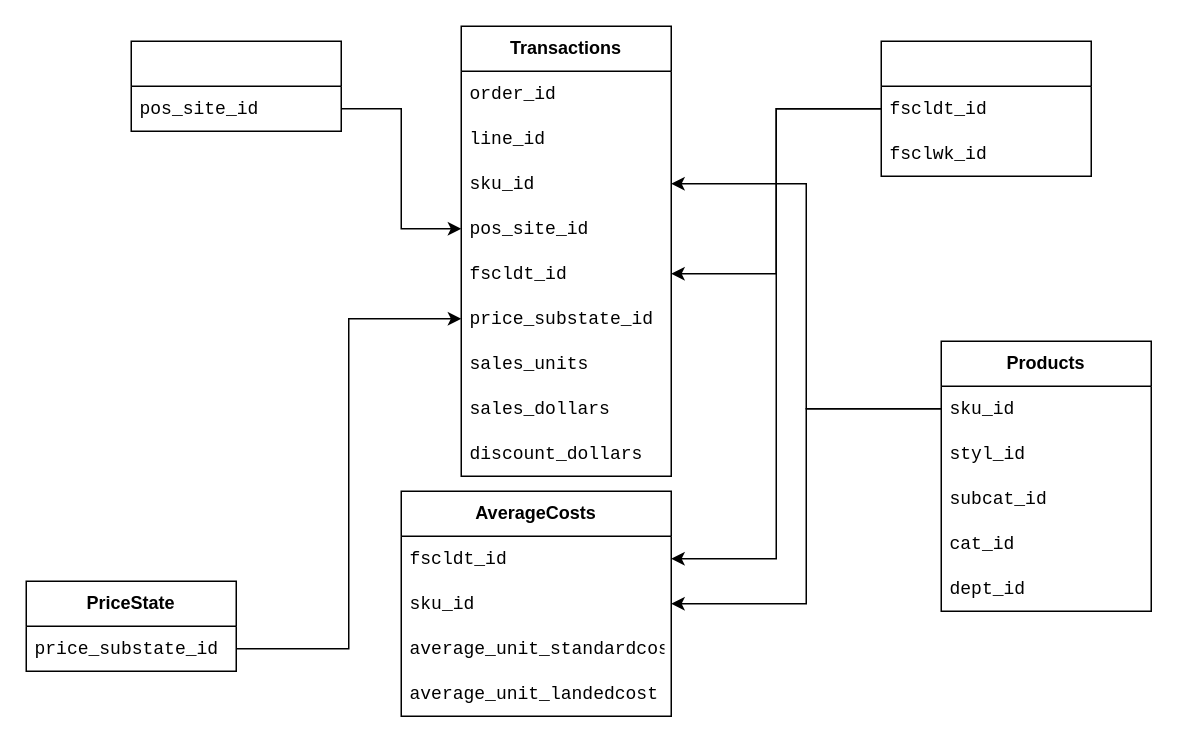
Image size: 1178x743. Some labels were removed from this diagram. The shapes that lost their labels are listed below. From the top down, each one's box as (x1, y1, x2, y2) in pixels, then its label:
(130, 40, 341, 131): PointOfSale
(880, 40, 1091, 176): Calendar
